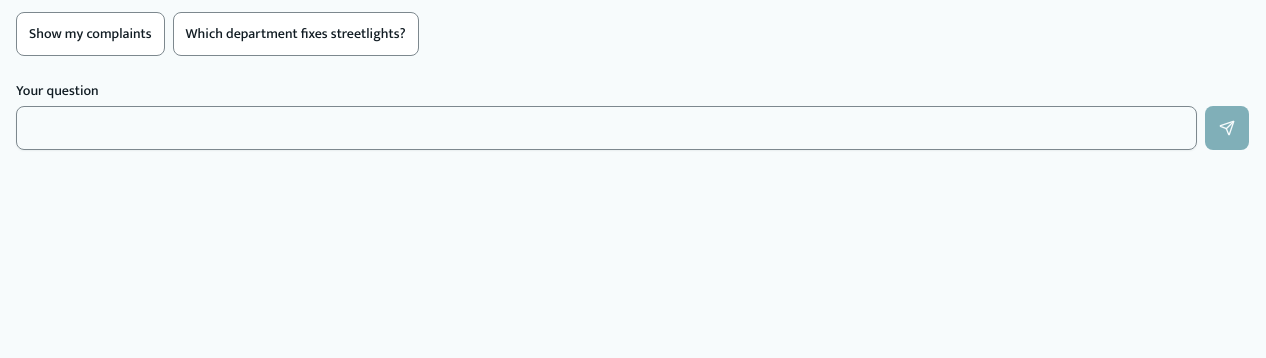
Scenario: Help chat › marks a general answer as guidance, and explains a rate limit
The image size is (1266, 358).
Type "Which department fixes streetlights?" into the text box labelled "Your question" at (606, 128), box [16, 106, 1197, 150]
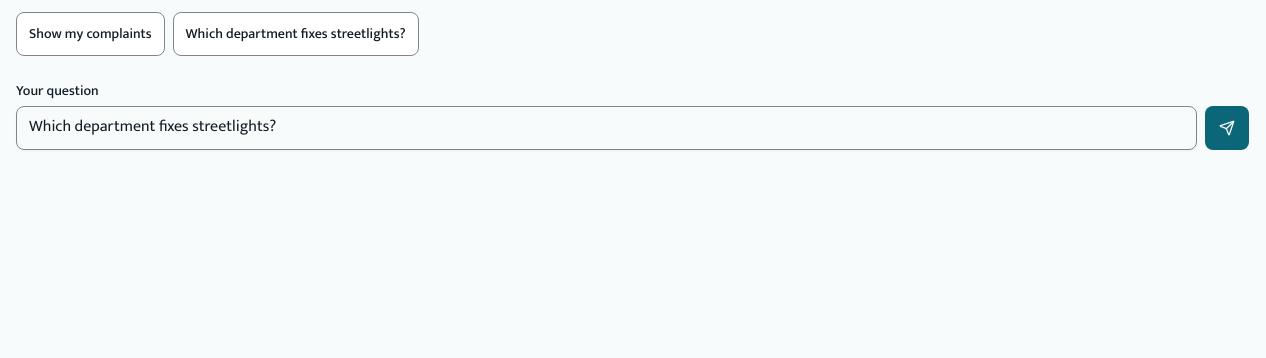
Click the button named "Send" at (1227, 128), box [1205, 106, 1249, 150]
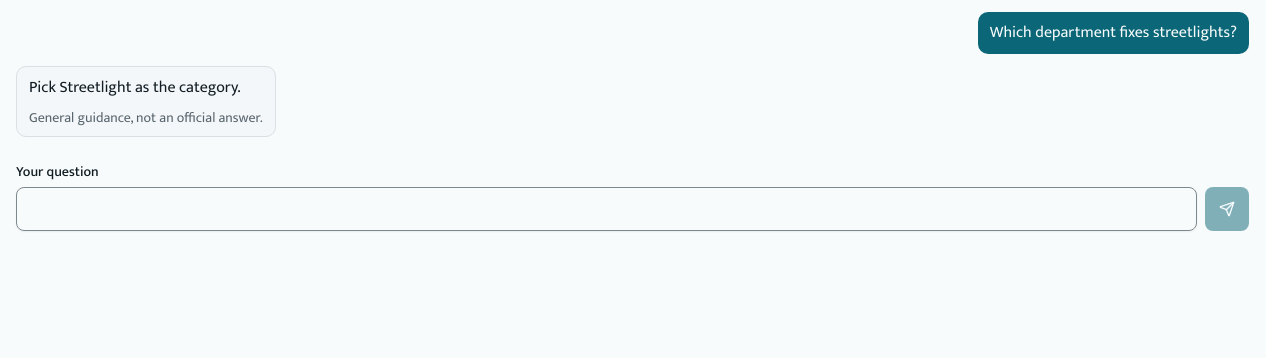
Check: the text "Pick Streetlight as the category." is shown, box [29, 75, 263, 100]
Check: the text "General guidance, not an official answer." is shown, box [29, 108, 263, 128]
Type "again" into the text box labelled "Your question" at (606, 209), box [16, 187, 1197, 231]
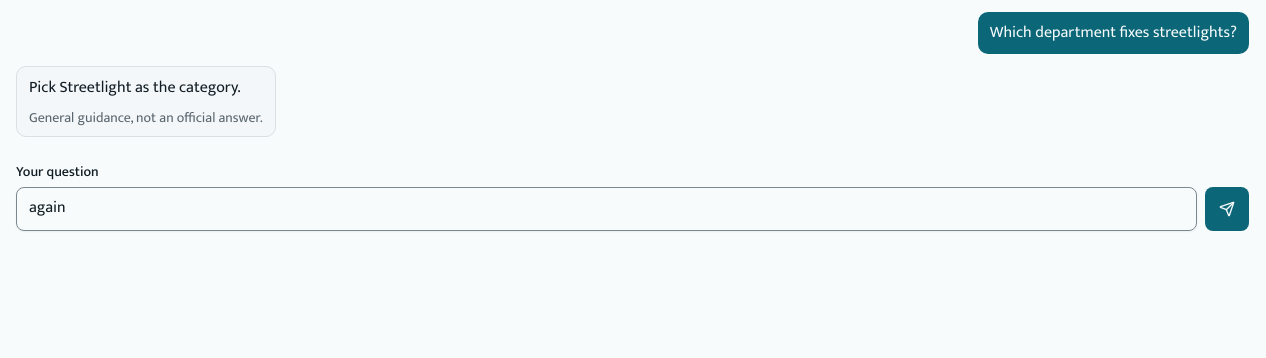
Click the button named "Send" at (1227, 209), box [1205, 187, 1249, 231]
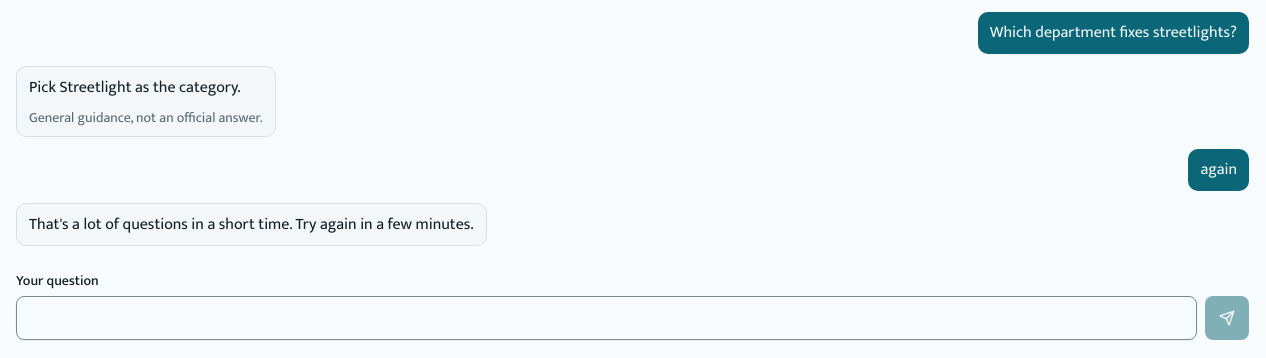
Check: the text "a lot of questions" is shown, box [29, 211, 474, 238]
